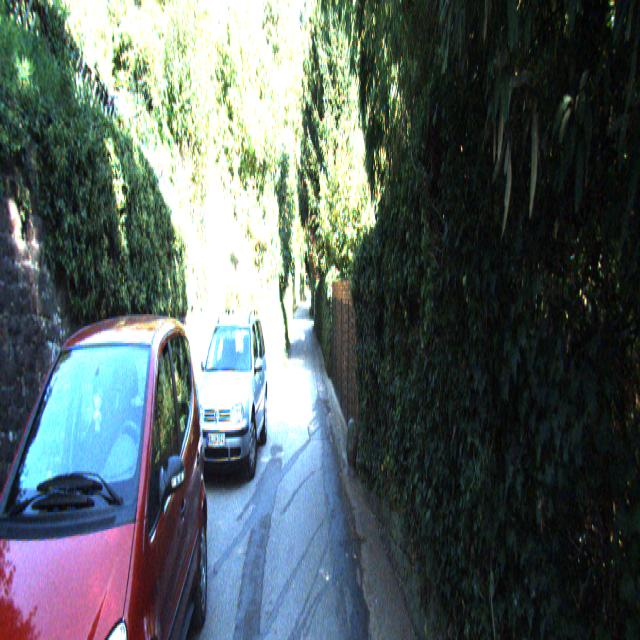Car: (0, 295, 212, 639), (190, 309, 269, 502)
